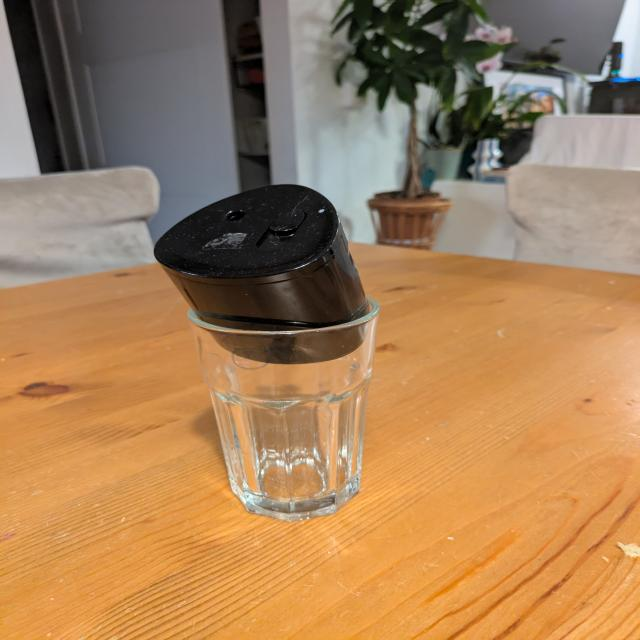mazak: (231, 340, 273, 370)
mazak g1: (189, 298, 376, 525)
